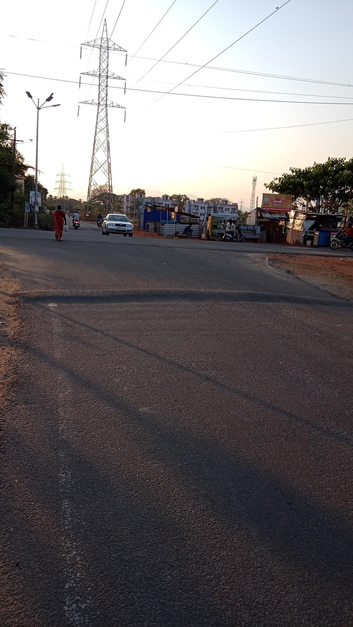bump: (15, 289, 353, 307)
